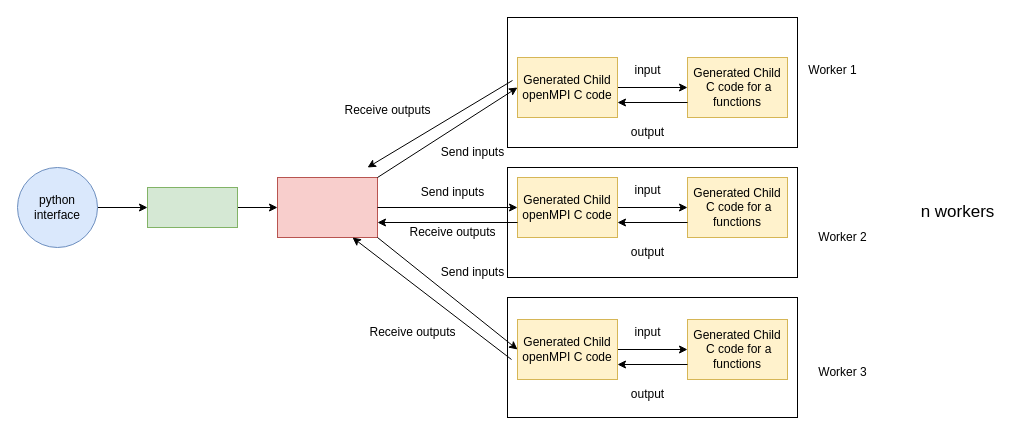
This 1025x435 diagram has some shape labels left out. The box of each missing label's shape, as (x1, y1, x2, y2) in pixels:
Generated Parent openMPI C code: (276, 176, 378, 238)
Loaded Parent DLL: (146, 186, 238, 228)
